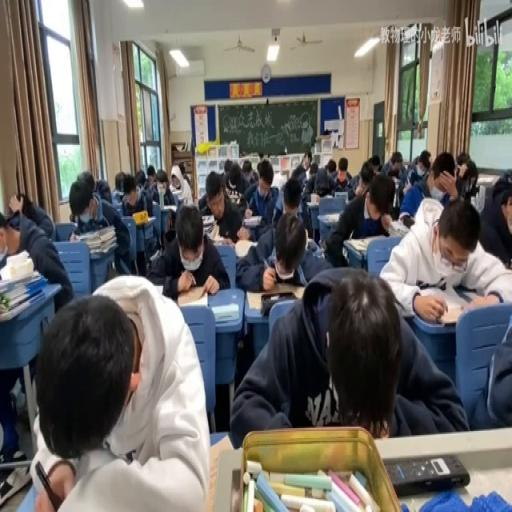calculator: (246, 282, 304, 308), (0, 462, 30, 510), (0, 292, 43, 320), (0, 268, 42, 292), (461, 283, 502, 304), (177, 286, 209, 307), (210, 300, 238, 322), (234, 236, 256, 258), (344, 238, 370, 253), (389, 218, 411, 234), (131, 212, 156, 226), (201, 214, 216, 234), (212, 233, 233, 246), (306, 238, 320, 254), (242, 215, 262, 226), (320, 212, 339, 222), (334, 189, 348, 201), (161, 203, 177, 212), (149, 246, 159, 260), (306, 196, 320, 205), (391, 176, 400, 188)
paper: (228, 263, 462, 447), (0, 191, 73, 452), (378, 195, 510, 321), (234, 209, 326, 293), (147, 205, 228, 300), (70, 172, 133, 279), (321, 171, 393, 263), (464, 296, 510, 428), (398, 148, 439, 219), (197, 161, 225, 212), (147, 168, 177, 206), (456, 158, 478, 199), (380, 150, 405, 186), (331, 156, 352, 194), (0, 215, 21, 253), (281, 182, 302, 218), (314, 168, 334, 196), (93, 175, 111, 205), (240, 156, 258, 184), (256, 158, 274, 186), (76, 169, 94, 195), (14, 192, 30, 215), (290, 164, 306, 186), (179, 160, 191, 188), (270, 170, 286, 190), (114, 171, 126, 192), (369, 154, 381, 175), (134, 168, 146, 189), (360, 171, 374, 189), (302, 148, 312, 168), (222, 159, 232, 178), (326, 158, 337, 173), (112, 188, 123, 202), (308, 161, 318, 176), (420, 148, 430, 163), (411, 156, 419, 170), (258, 152, 265, 161)
person: (384, 452, 470, 494)
